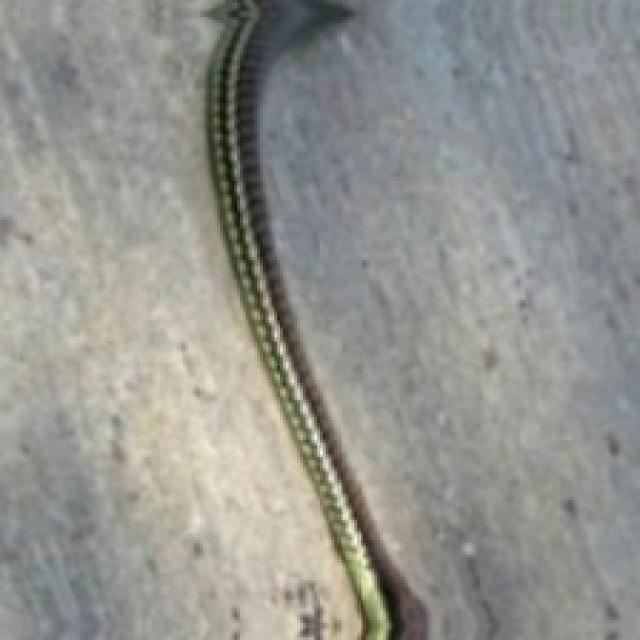philippine bronzeback treesnake: (206, 0, 426, 637)
